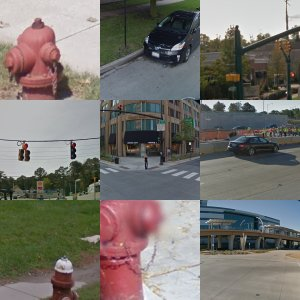公車: (100, 16, 137, 69), (11, 161, 50, 200), (161, 133, 199, 172)
汽車: (123, 151, 161, 182), (207, 66, 247, 94), (201, 132, 246, 155), (241, 237, 278, 251), (72, 264, 96, 282)
